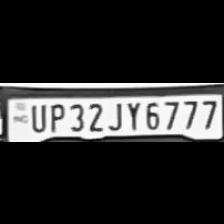2: (84, 99, 104, 131)
3: (66, 99, 84, 131)
6: (140, 97, 160, 128)
7: (198, 98, 218, 130), (161, 97, 179, 128), (180, 97, 198, 128)
J: (104, 99, 124, 131)
P: (46, 100, 64, 132)
U: (27, 100, 45, 132)
Y: (122, 98, 140, 130)
